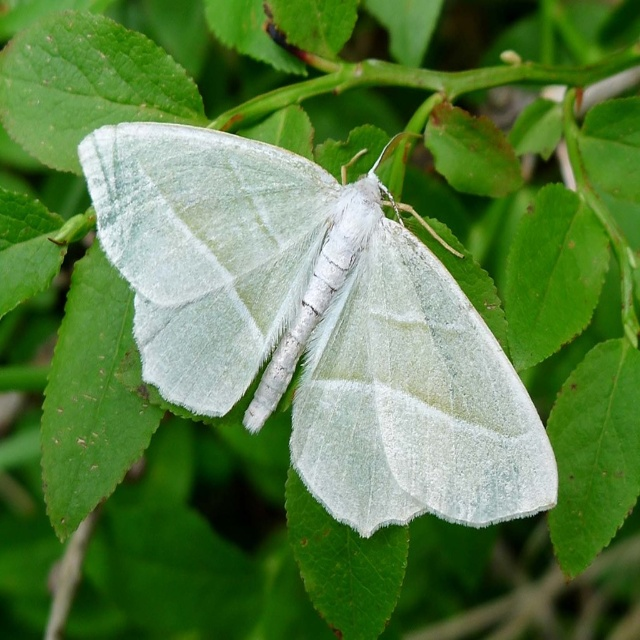Butterfly: (97, 103, 529, 544)
